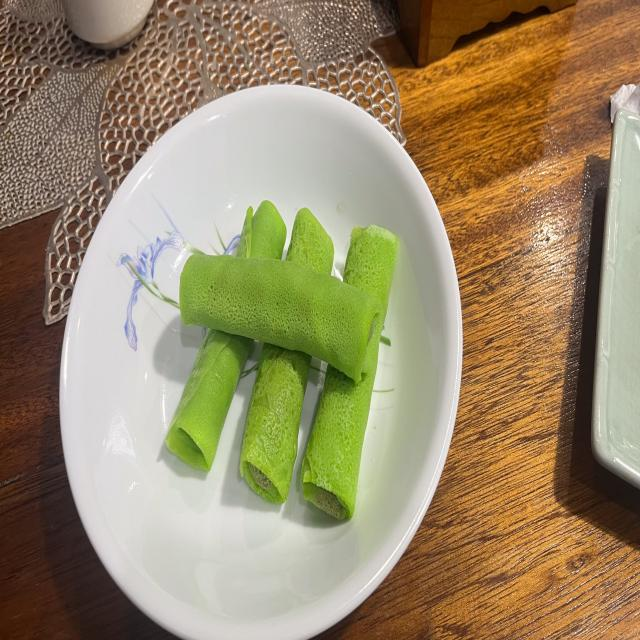Kuih-Ketayap: (301, 224, 398, 520), (179, 253, 378, 382), (166, 329, 252, 471), (240, 344, 311, 504), (286, 207, 334, 273), (238, 200, 286, 260)
